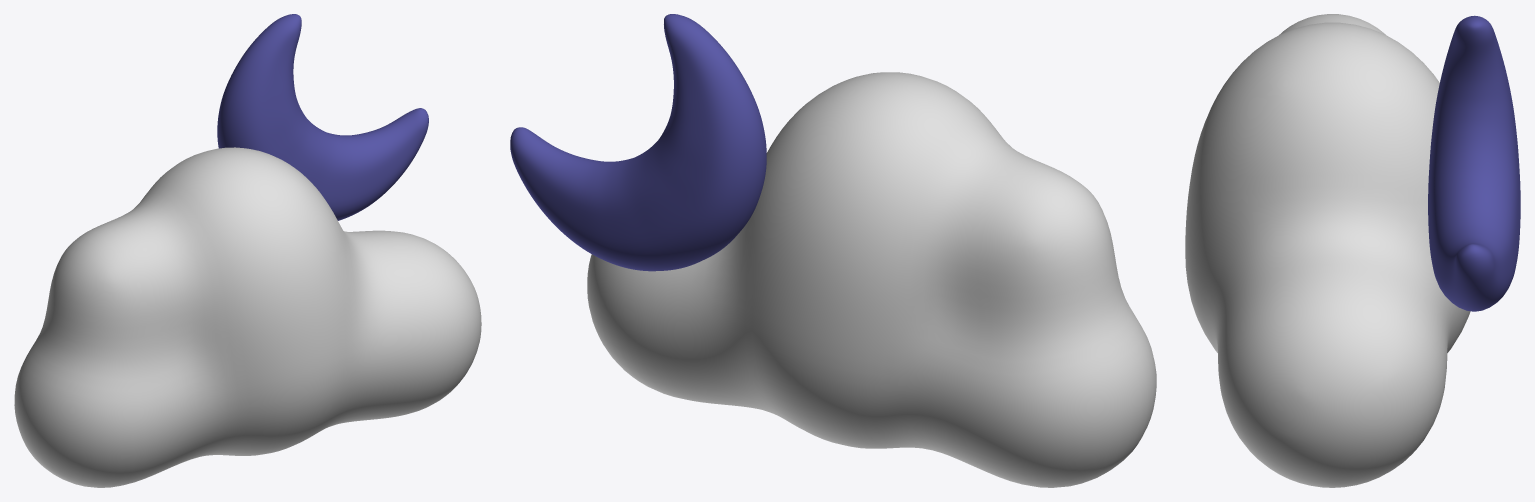
File: cloudy-night.glb
The picture shows the model from 3 angles, left to right: view 1: azimuth 30°, elevation 25°; view 2: azimuth 150°, elevation 25°; view 3: azimuth 270°, elevation 25°; orthographic projection. The views are drawn at different scales.
Parts seen in each view (by area): view 1: 0007; view 2: 0007; view 3: 0007.
Part boxes in pixels (<box>): 0007: <box>14,14,481,487</box>; 0007: <box>510,14,1156,487</box>; 0007: <box>1185,14,1520,487</box>.
Size of the model in its own units: 2.42 by 1.82 by 1.26.
